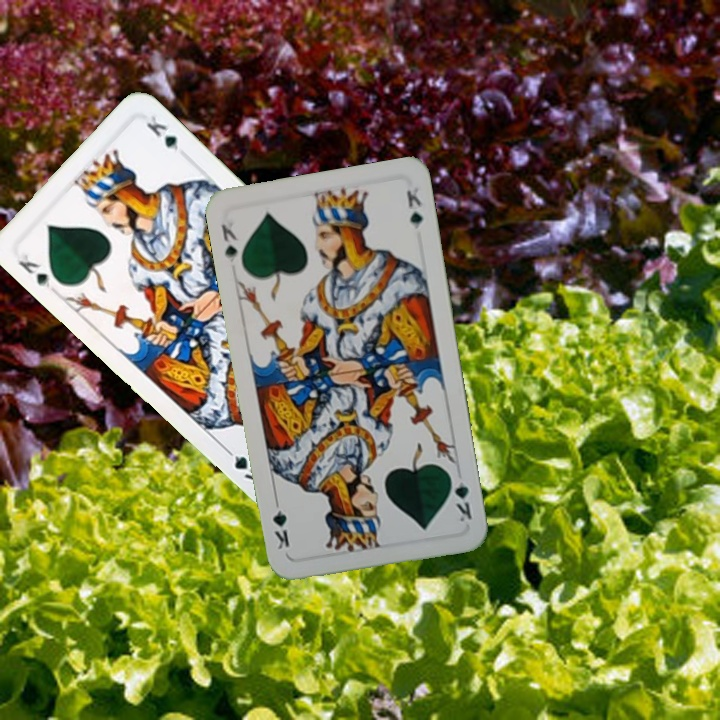GK: (13, 249, 54, 290), (445, 469, 475, 525), (217, 220, 241, 265)
